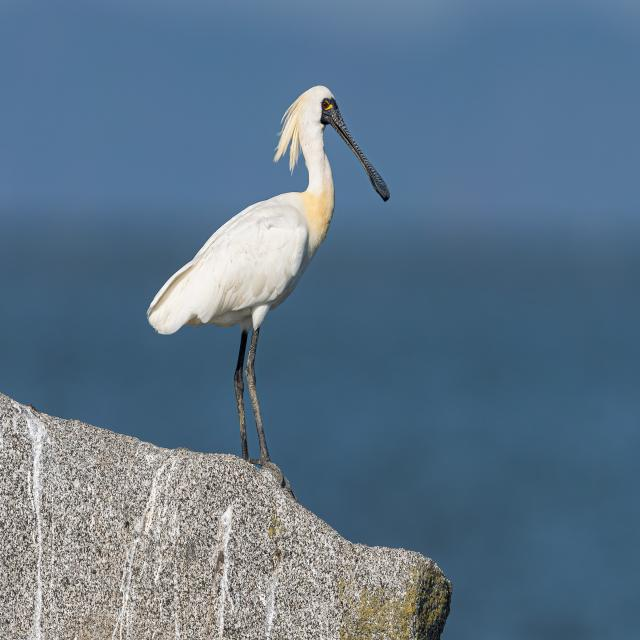Black-faced spoonbill: (148, 86, 389, 464)
